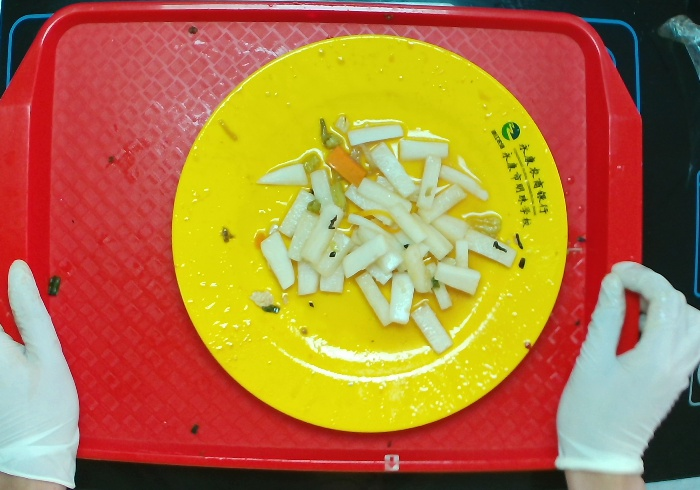YKMZ-Huang_Se_Mian_Pan: (172, 33, 572, 430)
